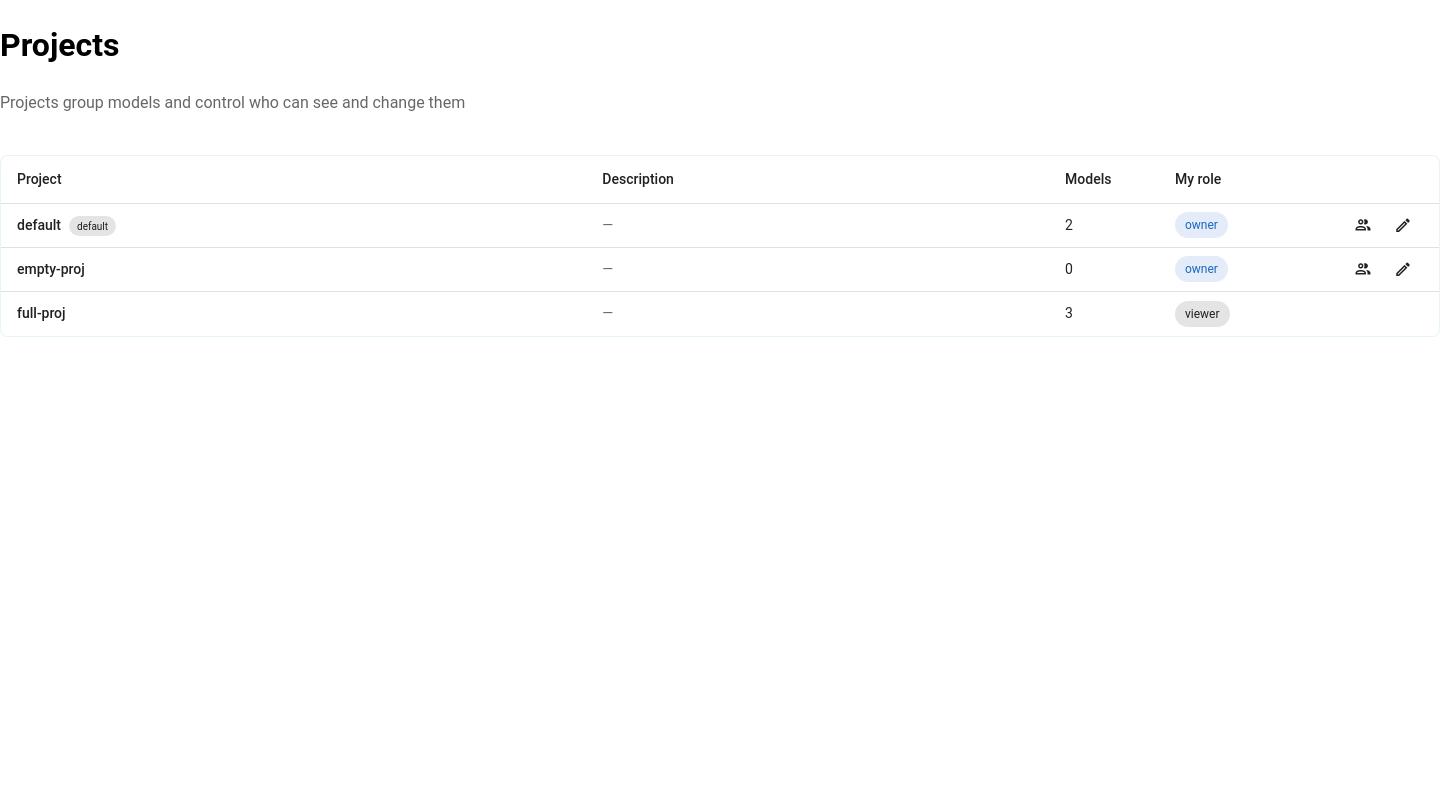
Test: ProjectsPage members › lists members of the project
Click the button named "Members of empty-proj" at point(1363, 269), box [1343,249,1383,289]
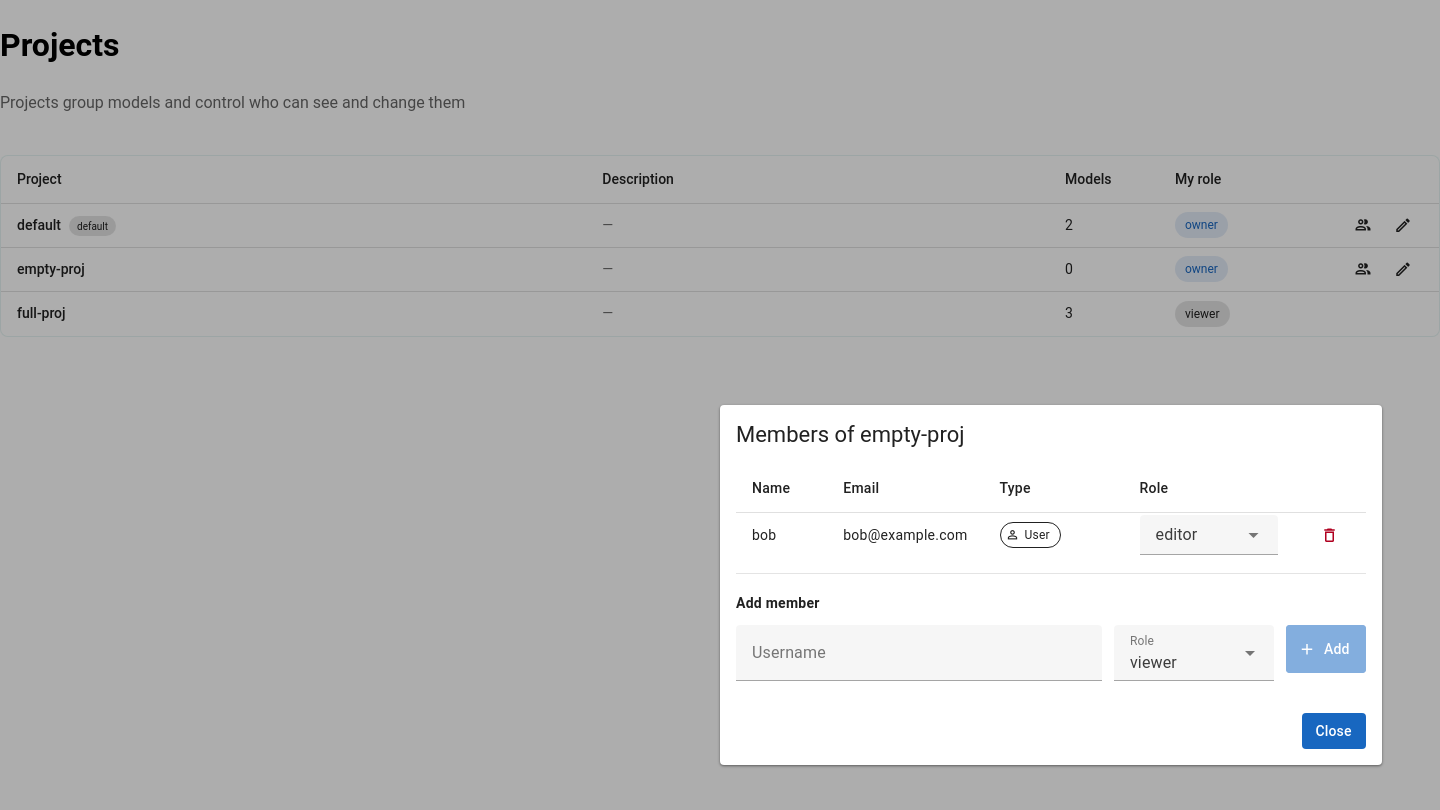
Expected: the text "bob@example.com" is shown, [827,513,984,557]
